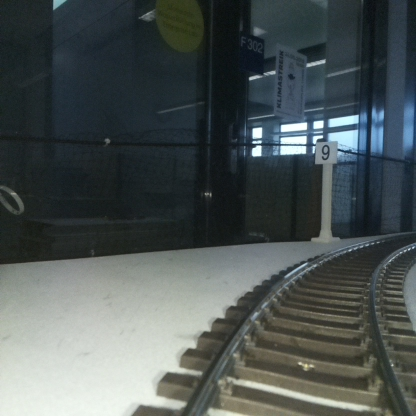white-info-9: (315, 140, 337, 240)
